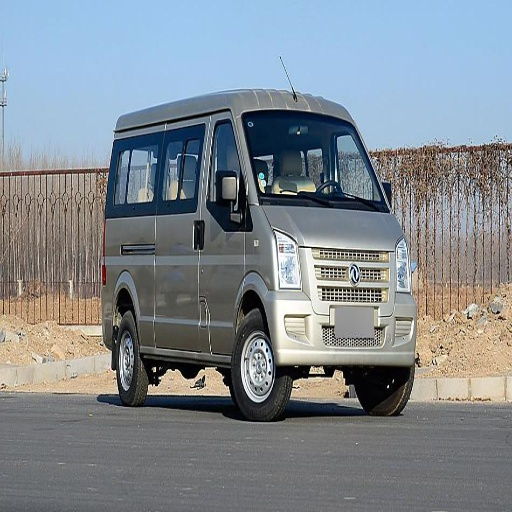front_bumper: (271, 247, 417, 363)
front_right_door: (174, 115, 244, 352)
